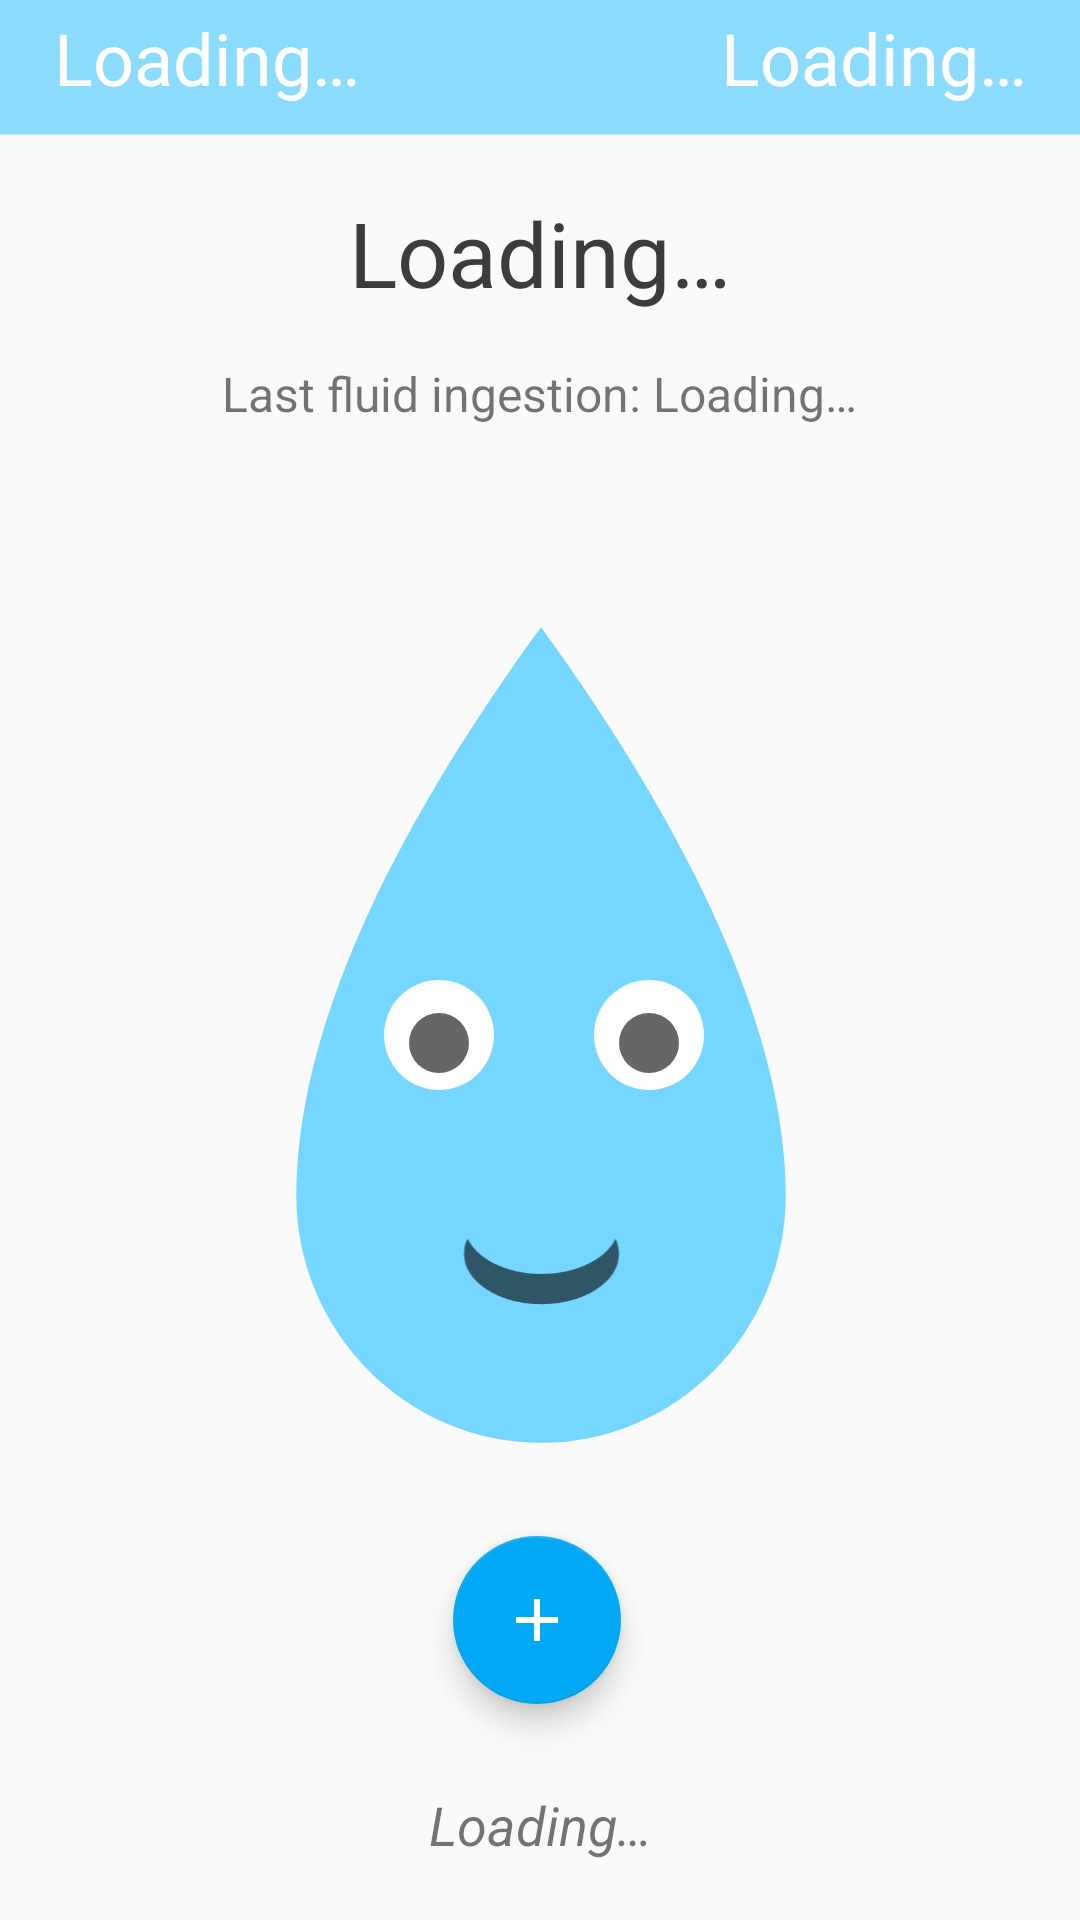

Named icons in this screenshot (1080*1920) and their bounding boxes, (x1, y1, x2, y2):
add: (453, 1536, 621, 1704)
